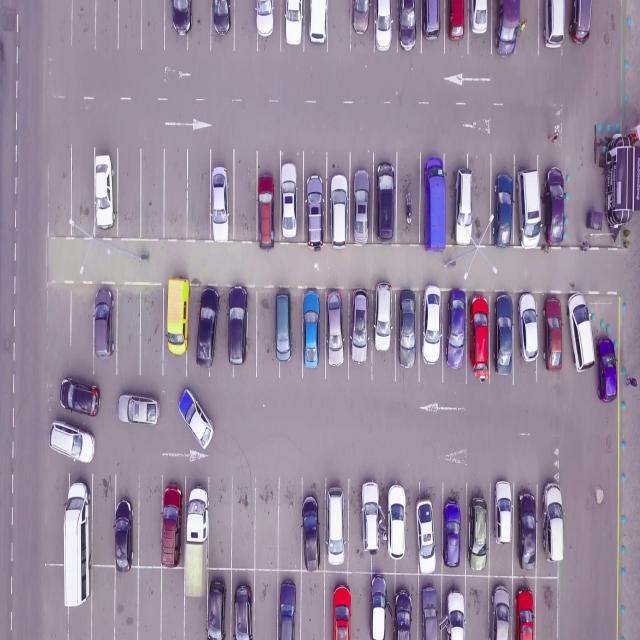Car: (566, 290, 596, 374), (177, 388, 216, 451), (48, 420, 96, 464), (360, 481, 387, 557), (468, 293, 491, 381), (160, 483, 183, 570), (196, 286, 220, 367), (421, 283, 443, 367), (225, 286, 248, 366), (542, 483, 564, 564), (94, 154, 117, 231), (59, 376, 101, 418), (494, 292, 515, 376), (516, 492, 538, 572), (446, 286, 466, 372), (370, 572, 395, 640), (415, 498, 437, 575), (304, 173, 325, 253), (545, 166, 566, 246), (92, 288, 116, 358), (113, 498, 135, 574), (493, 173, 515, 249), (542, 296, 564, 372), (595, 336, 619, 405), (467, 497, 489, 572), (517, 291, 540, 362), (326, 486, 346, 567), (387, 483, 408, 560), (210, 166, 231, 243), (329, 173, 350, 250), (301, 493, 321, 573), (398, 288, 418, 368), (350, 286, 370, 366), (301, 290, 321, 370), (117, 392, 161, 428), (326, 290, 346, 368), (256, 174, 276, 250), (454, 168, 473, 248), (372, 281, 393, 352), (493, 479, 514, 547), (204, 578, 227, 640), (280, 163, 298, 240), (440, 589, 467, 640), (442, 500, 462, 568), (488, 582, 510, 640), (352, 170, 369, 244), (567, 0, 593, 46), (331, 582, 351, 640), (392, 588, 414, 640), (233, 583, 253, 640), (278, 577, 296, 640), (374, 0, 394, 53), (514, 588, 534, 640), (420, 583, 438, 640), (284, 0, 304, 48), (169, 0, 194, 36), (254, 0, 276, 39), (445, 0, 465, 42), (211, 0, 233, 38), (352, 0, 372, 36), (468, 0, 488, 35)
Cycle: (404, 185, 412, 228)
Truck: (183, 484, 211, 598)
Van: (62, 478, 92, 608), (423, 155, 448, 253), (516, 168, 544, 250), (165, 275, 190, 357), (494, 0, 522, 59), (376, 160, 394, 242), (274, 291, 293, 363), (541, 0, 565, 51)
